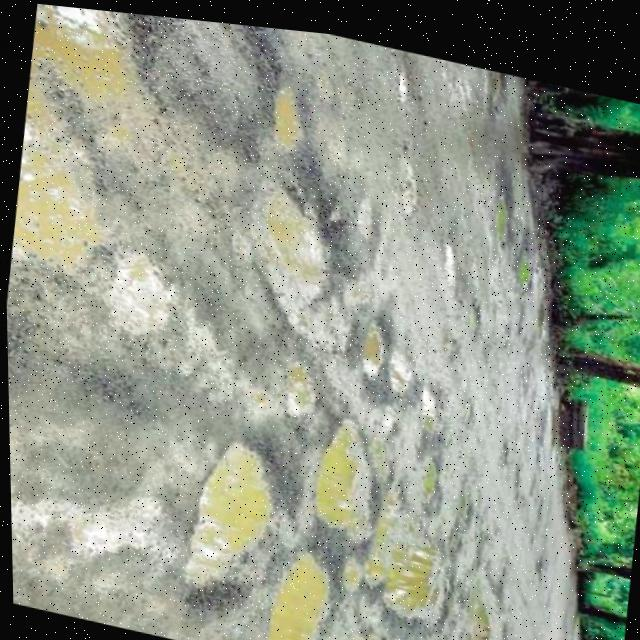Pothole: (2, 0, 182, 309), (224, 158, 356, 343), (170, 412, 288, 613), (300, 400, 391, 534), (362, 513, 445, 620), (262, 549, 348, 640), (439, 574, 519, 640), (251, 69, 307, 149), (349, 301, 404, 377), (410, 368, 449, 428), (409, 443, 446, 505), (383, 336, 423, 387)
